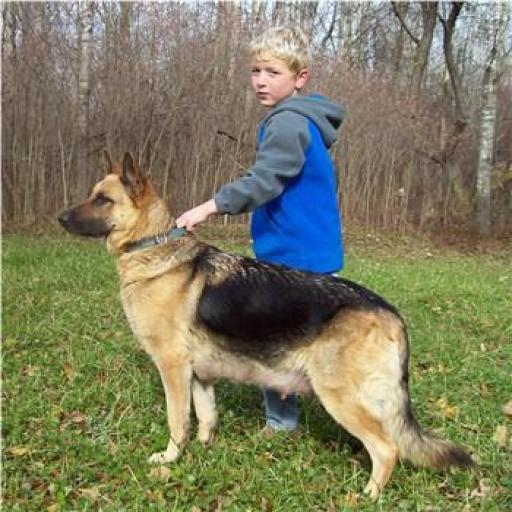dog_face: (59, 149, 160, 245)
